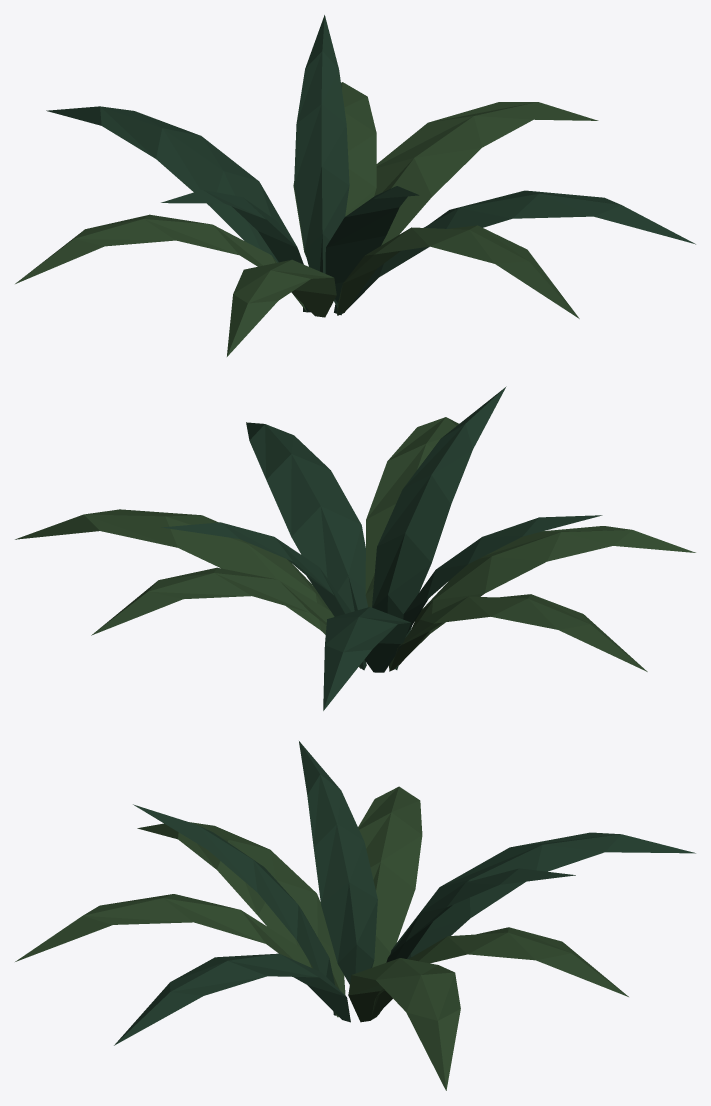
File: fern.glb
3 renders of one model, top to bottom at view 1: azimuth 30°, elevation 25°; view 2: azimuth 150°, elevation 25°; view 3: azimuth 270°, elevation 25°, orthographic.
Visible parts, largest first — view 1: fronds_inner, fronds; view 2: fronds_inner, fronds; view 3: fronds, fronds_inner.
Boxes of the visible parts, <box> form: fronds_inner: <box>46,15,695,315</box>; fronds: <box>15,82,598,356</box>; fronds_inner: <box>161,386,602,710</box>; fronds: <box>15,417,695,671</box>; fronds: <box>15,786,628,1090</box>; fronds_inner: <box>114,741,695,1045</box>.
Bounding box in the file's own units: 0.9218 × 0.2875 × 0.8847.
